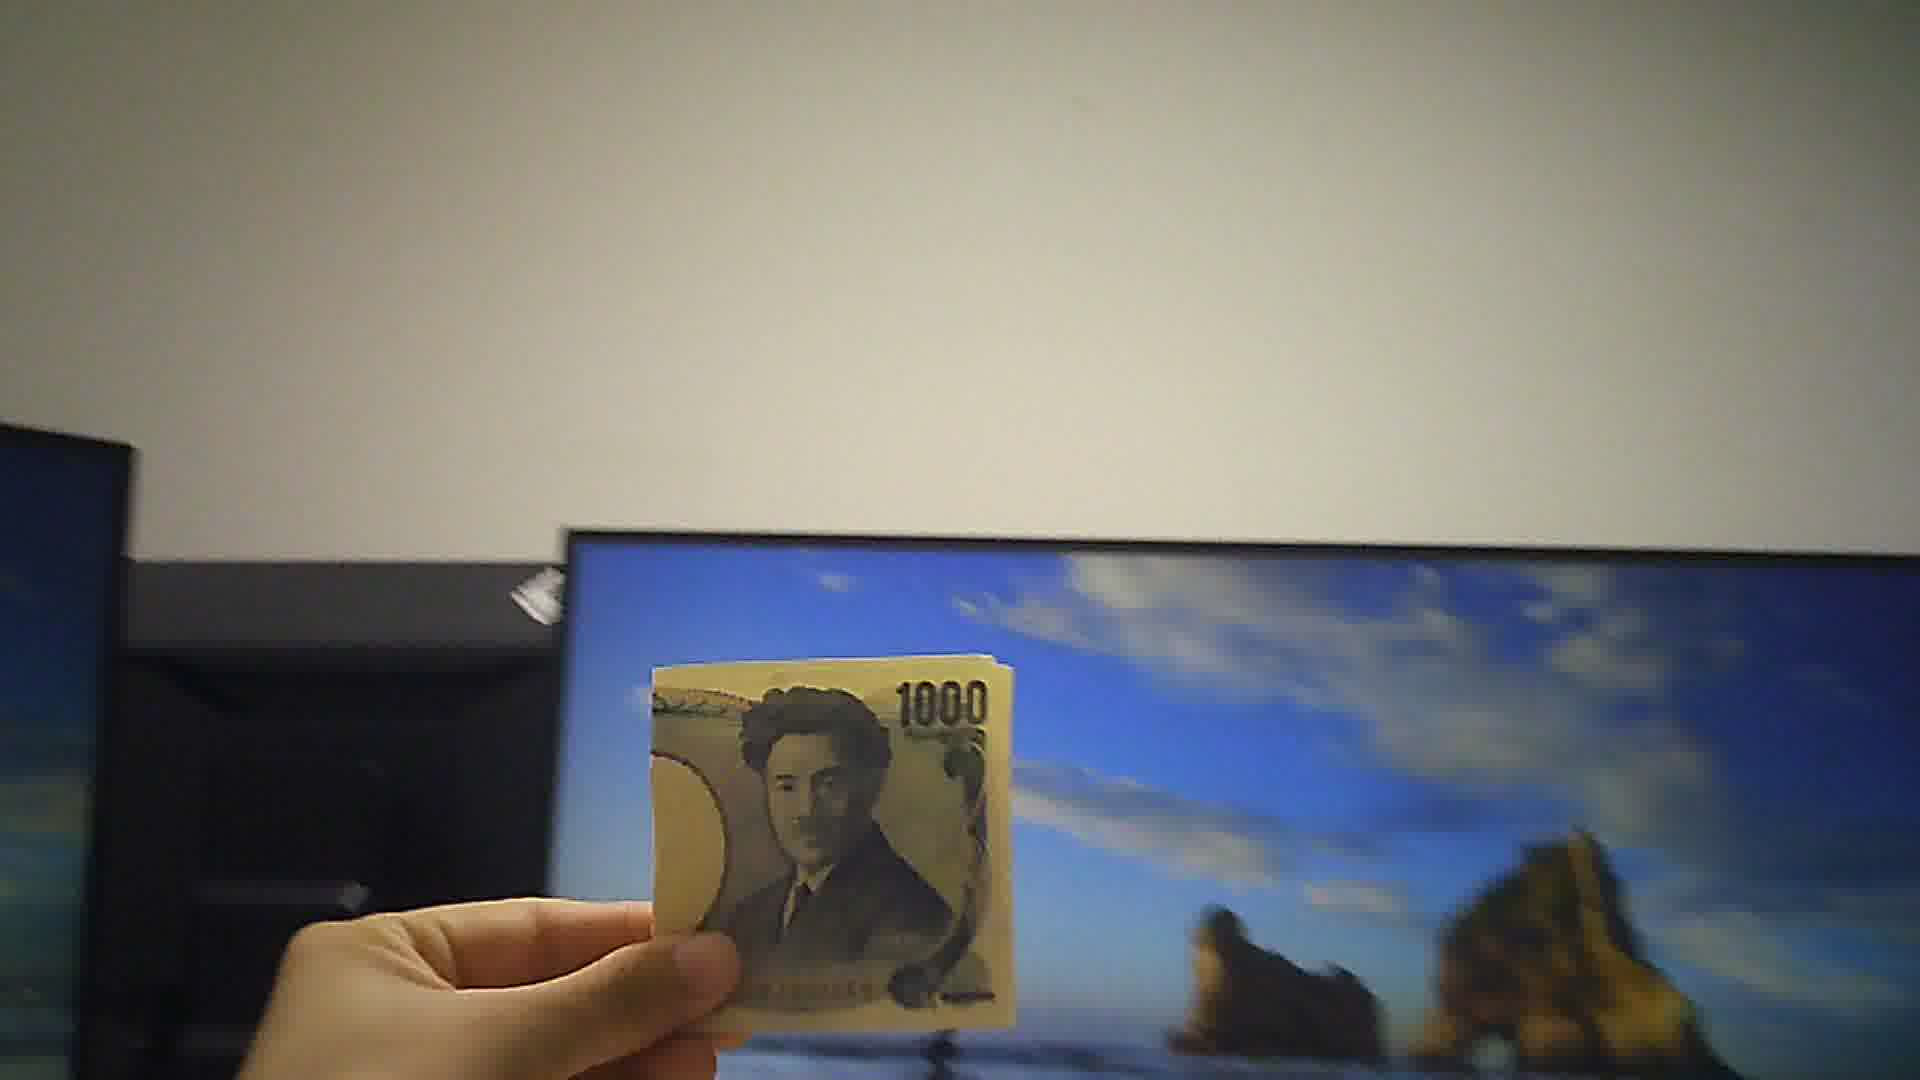1,000 Yen: (638, 646, 1034, 1043)
